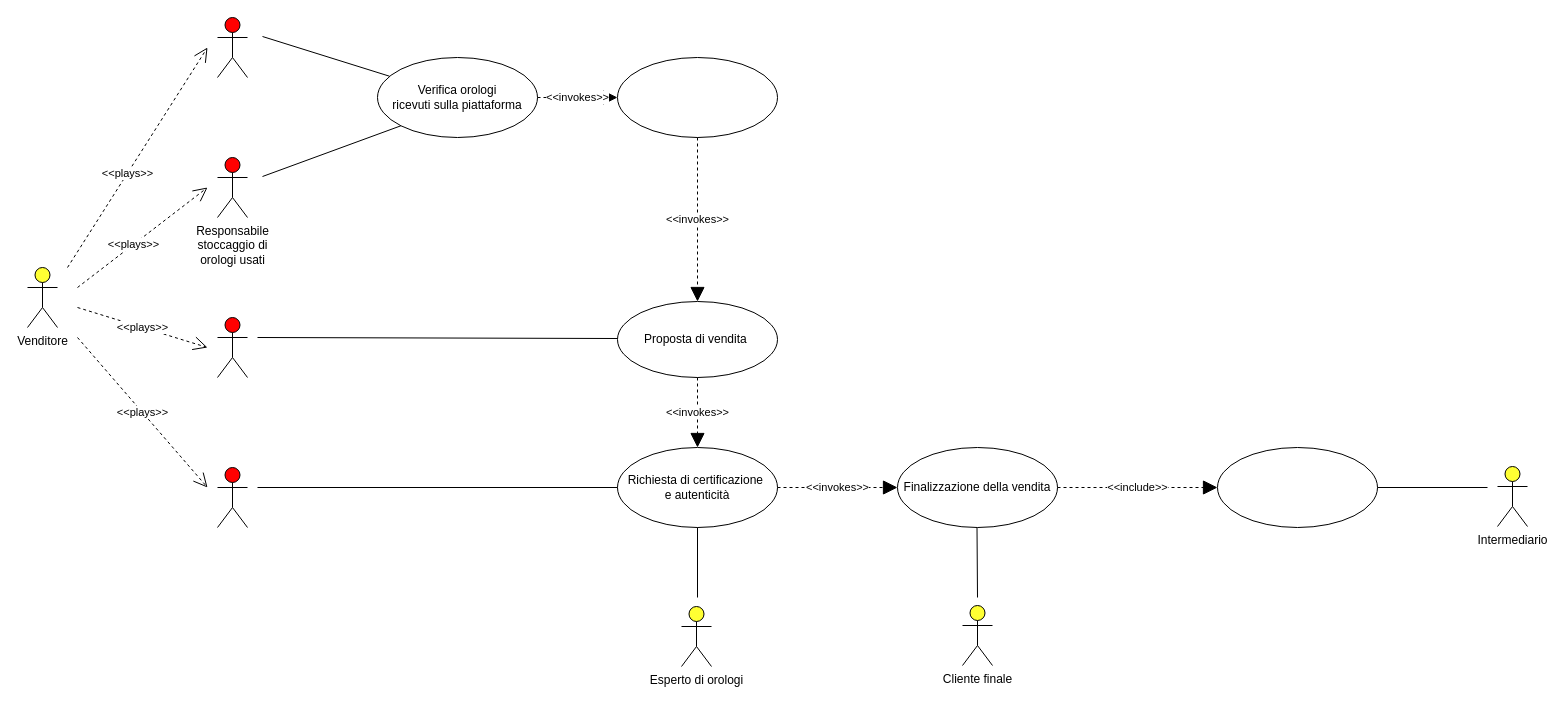
Some shapes in this 1565 by 705 pixel diagram are drawn without their labels. The shapes that lost their labels are listed below. From the top down, each one's centre as x and y in pixels, then its label:
pixel 232 47: Responsabile stoccaggio di orologi nuovi
pixel 697 97: Custodia orologi di lusso
pixel 232 347: Rivenditore
pixel 232 497: Promotore della valutazione
pixel 1297 487: Consolidamento della transazione su blockchain
